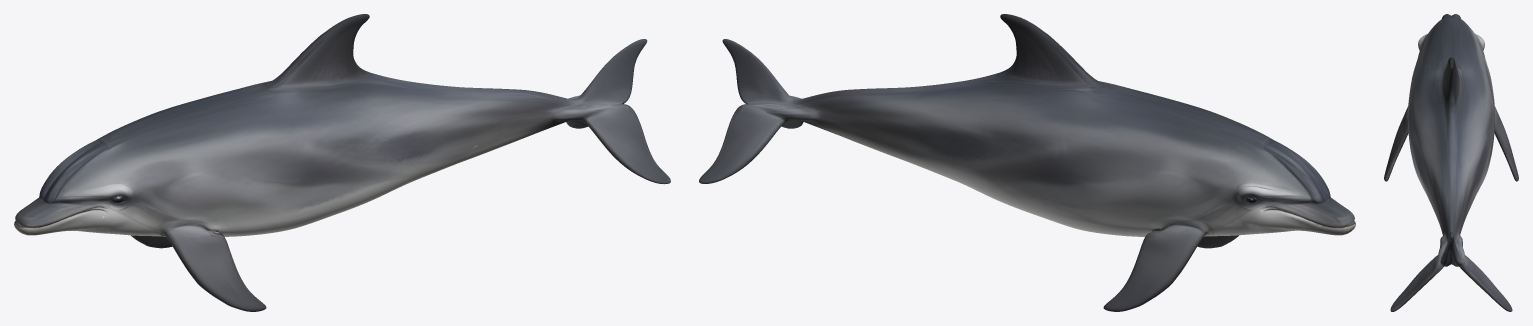
The model's file is dolphin_optimized.glb.
3 views of the same model, side by side, from view 1: azimuth 30°, elevation 25°; view 2: azimuth 150°, elevation 25°; view 3: azimuth 270°, elevation 25° (orthographic). The views are drawn at different scales.
Visible parts, largest first — view 1: node_0; view 2: node_0; view 3: node_0.
Part boxes in pixels (box(x1,y1,x2,y2)): node_0: box(14, 14, 670, 311); node_0: box(699, 14, 1355, 311); node_0: box(1384, 14, 1518, 311).
Size of the model in its own units: 1.19 by 0.4114 by 0.2963.
Materials: 1 (1 with a texture image).
